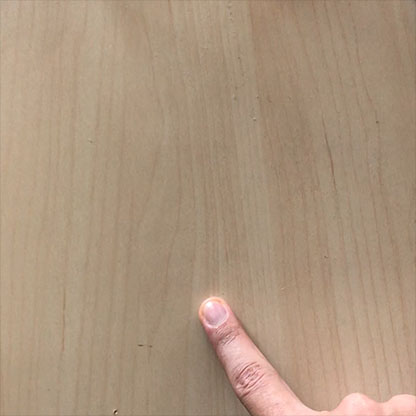fingertip: (192, 290, 237, 344)
